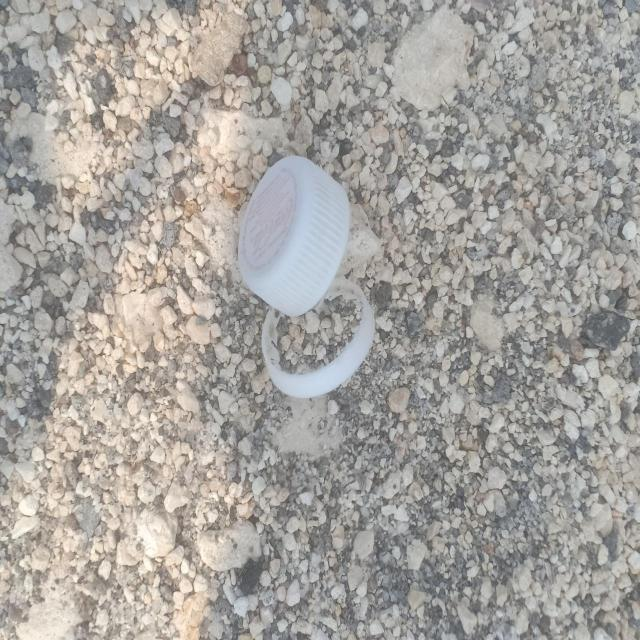plastic_waste: (237, 155, 378, 401)
